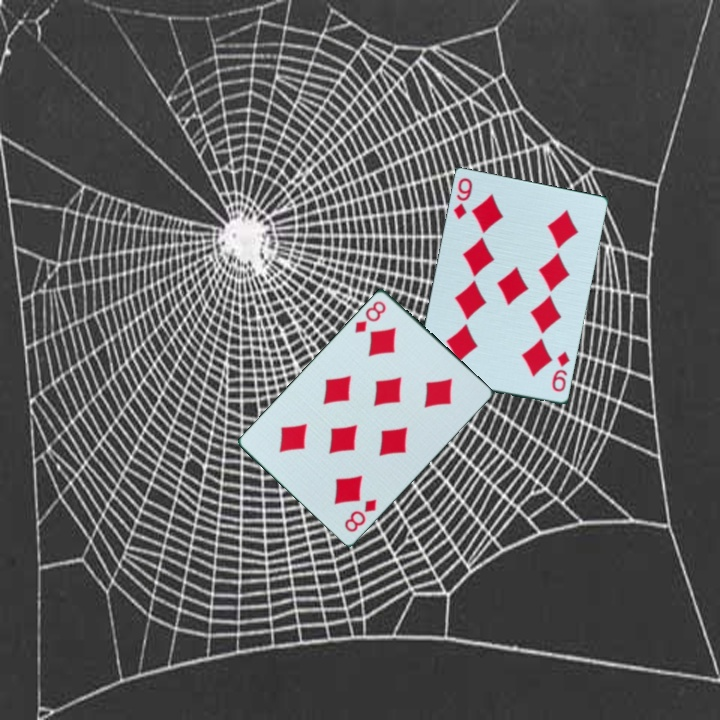8d: (341, 495, 379, 535), (351, 296, 389, 335)
9d: (450, 174, 476, 223), (549, 348, 573, 395)
